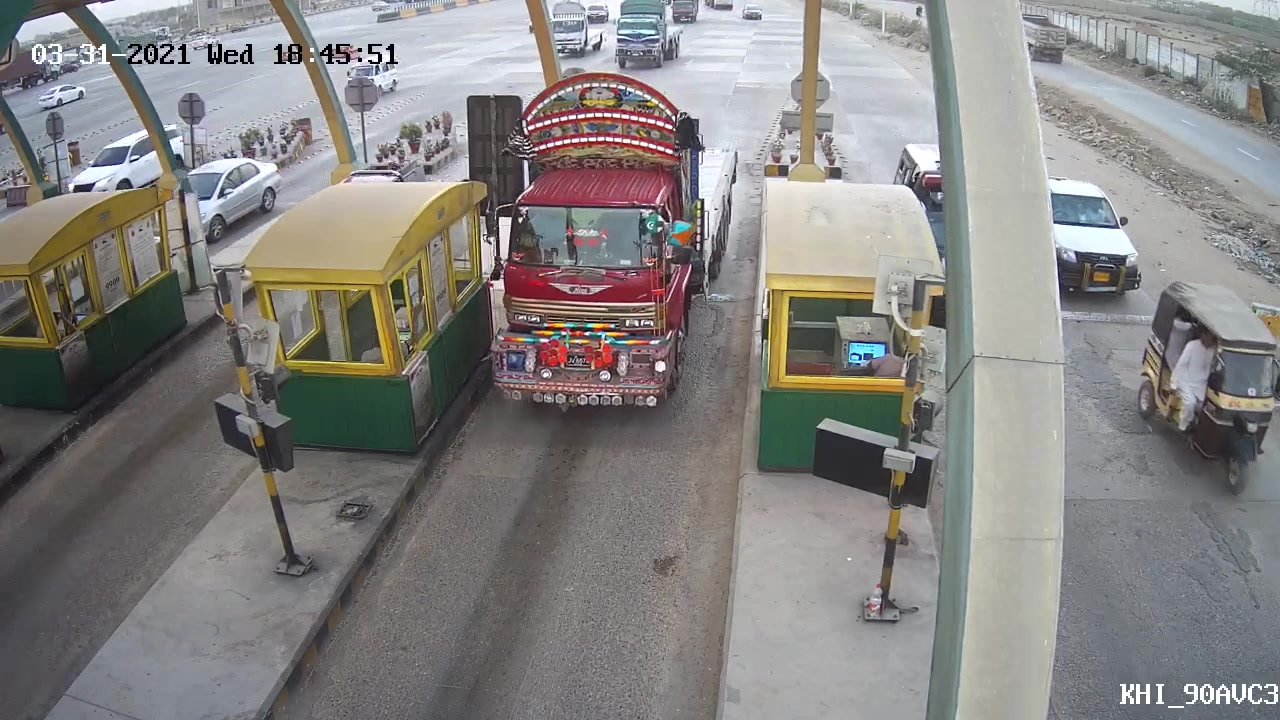F5: (462, 67, 739, 410)
